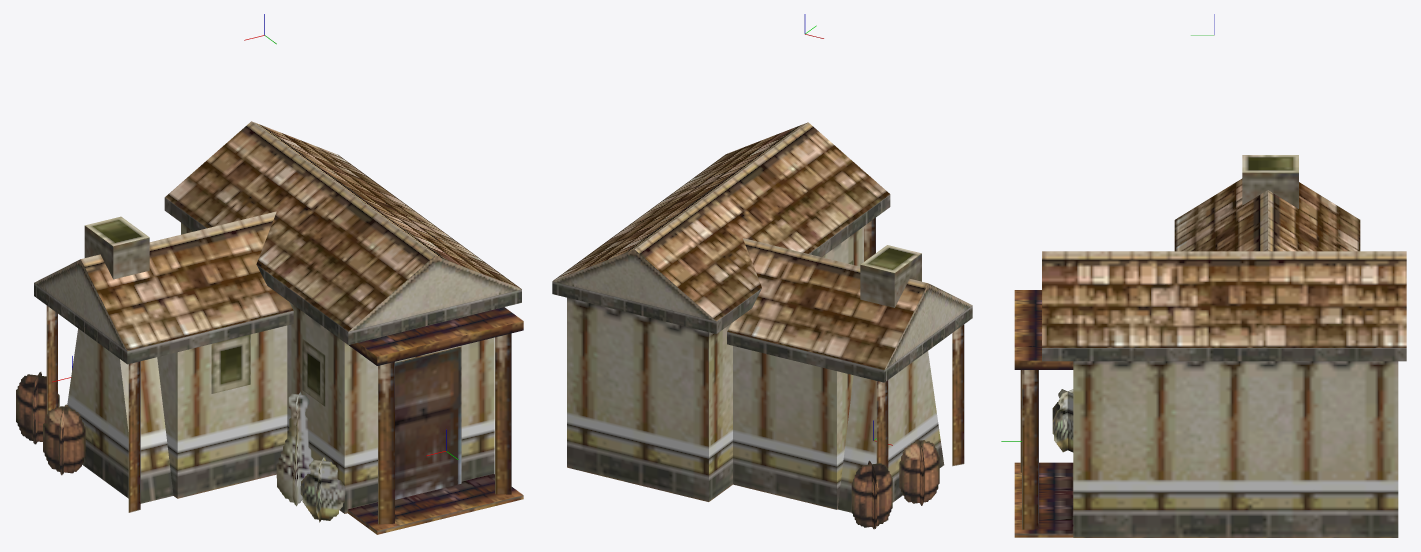
The model's file is greek-house-b-age0.glb.
3 views of the same model, side by side, from view 1: azimuth 30°, elevation 25°; view 2: azimuth 150°, elevation 25°; view 3: azimuth 270°, elevation 25° (orthographic). The views are drawn at different scales.
Visible parts, largest first — view 1: building g houseb age0Model; view 2: building g houseb age0Model; view 3: building g houseb age0Model.
Boxes of the visible parts, box(x1,y1,x2,y2) form: building g houseb age0Model: box(16, 121, 523, 534); building g houseb age0Model: box(552, 122, 972, 529); building g houseb age0Model: box(1014, 155, 1406, 537).
Size of the model in its own units: 4.22 by 5.25 by 4.31.
Materials: 4 (3 with a texture image).
